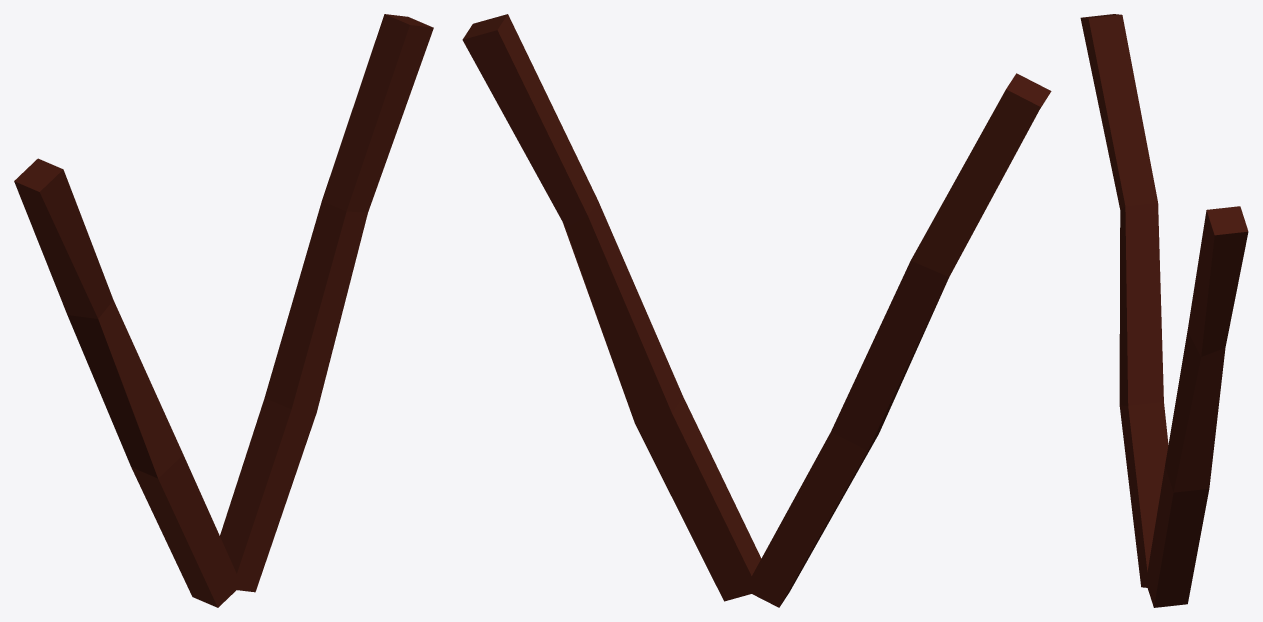
The model's file is barbed-stand.fbx.
3 views of the same model, side by side, from view 1: azimuth 30°, elevation 25°; view 2: azimuth 150°, elevation 25°; view 3: azimuth 270°, elevation 25° (orthographic). The views are drawn at different scales.
Parts seen in each view (by area): view 1: Cube.074; view 2: Cube.074; view 3: Cube.074.
Boxes of the visible parts, <box> form: Cube.074: <box>14,14,433,607</box>; Cube.074: <box>462,14,1051,607</box>; Cube.074: <box>1080,14,1248,607</box>.
Size of the model in its own units: 47.52 by 48.38 by 15.24.
